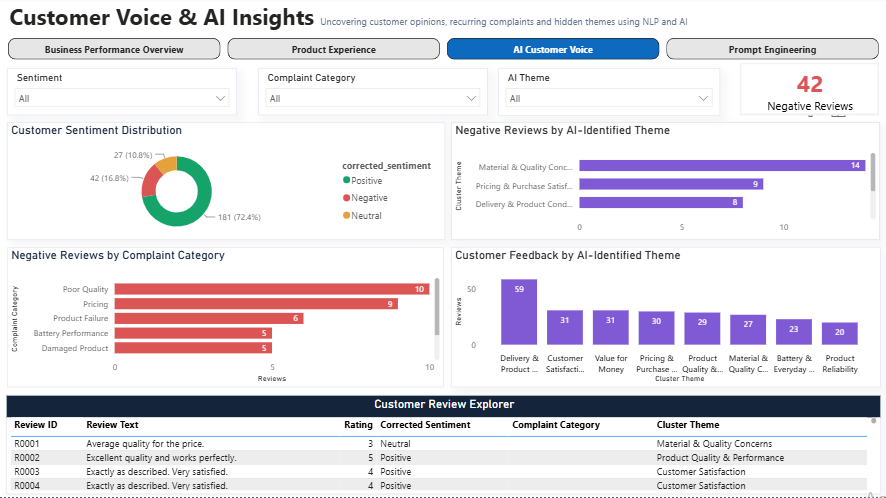

The dashboard page shown, as its layout file describes it:
{"tool":"powerbi","page":{"name":"AI Customer Voice","canvas":[1280,720],"ordinal":2},"visuals":[{"type":"textbox","box":[10.1,0,1183.7,59],"z":0},{"type":"donutChart","title":"Customer Sentiment Distribution","fields":{"Category":["reviews_analysis_final.corrected_sentiment"],"Y":["CountNonNull(reviews_analysis_final.review_id)"]},"box":[11.5,180,630.7,169.9],"z":1000},{"type":"clusteredBarChart","title":"Negative Reviews by Complaint Category","fields":{"Category":["reviews_analysis_final.complaint_category"],"Y":["CountNonNull(reviews_analysis_final.review_id)"]},"box":[11.5,360,629.3,201.6],"z":2000},{"type":"clusteredBarChart","title":"Negative Reviews by AI-Identified Theme","fields":{"Category":["reviews_analysis_final.cluster_theme"],"Y":["CountNonNull(reviews_analysis_final.review_id)"]},"box":[650.9,180,617.8,169.9],"z":3000},{"type":"clusteredColumnChart","title":"Customer Feedback by AI-Identified Theme","fields":{"Category":["reviews_analysis_final.cluster_theme"],"Y":["CountNonNull(reviews_analysis_final.review_id)"]},"box":[650.9,360,619.2,201.6],"z":4000},{"type":"cardVisual","fields":{"Data":["CountNonNull(reviews_analysis_final.review_id)"]},"box":[1067,95,200.2,74.9],"z":5000},{"type":"tableEx","title":"Customer Review Explorer","fields":{"Values":["reviews_analysis_final.review_id","reviews_analysis_final.review_text","Sum(reviews_analysis_final.rating)","reviews_analysis_final.corrected_sentiment","reviews_analysis_final.complaint_category","reviews_analysis_final.cluster_theme"]},"box":[10.1,573.1,1260,142.6],"z":6000},{"type":"slicer","fields":{"Values":["reviews_analysis_final.corrected_sentiment"]},"box":[11.5,102.2,331.2,67.7],"z":7000},{"type":"slicer","fields":{"Values":["reviews_analysis_final.complaint_category"]},"box":[373,102.2,331.2,67.7],"z":8000},{"type":"slicer","fields":{"Values":["reviews_analysis_final.cluster_theme"]},"box":[718.6,102.2,319.7,69.1],"z":9000},{"type":"pageNavigator","box":[13,59,1254.2,31.7],"z":10000}]}

Visuals, with their boxes in screenshot pixels (x1, y1, x2, y2), scaled from the page's 1280x720 canvas onto the 886x498 screenshot:
textbox: 7,0,826,41
"Customer Sentiment Distribution" donutChart: 8,124,445,242
"Negative Reviews by Complaint Category" clusteredBarChart: 8,249,444,388
"Negative Reviews by AI-Identified Theme" clusteredBarChart: 451,124,878,242
"Customer Feedback by AI-Identified Theme" clusteredColumnChart: 451,249,879,388
cardVisual - CountNonNull(reviews_analysis_final.review_id): 739,66,877,118
"Customer Review Explorer" tableEx: 7,396,879,495
slicer - reviews_analysis_final.corrected_sentiment: 8,71,237,118
slicer - reviews_analysis_final.complaint_category: 258,71,487,118
slicer - reviews_analysis_final.cluster_theme: 497,71,719,118
pageNavigator: 9,41,877,63
